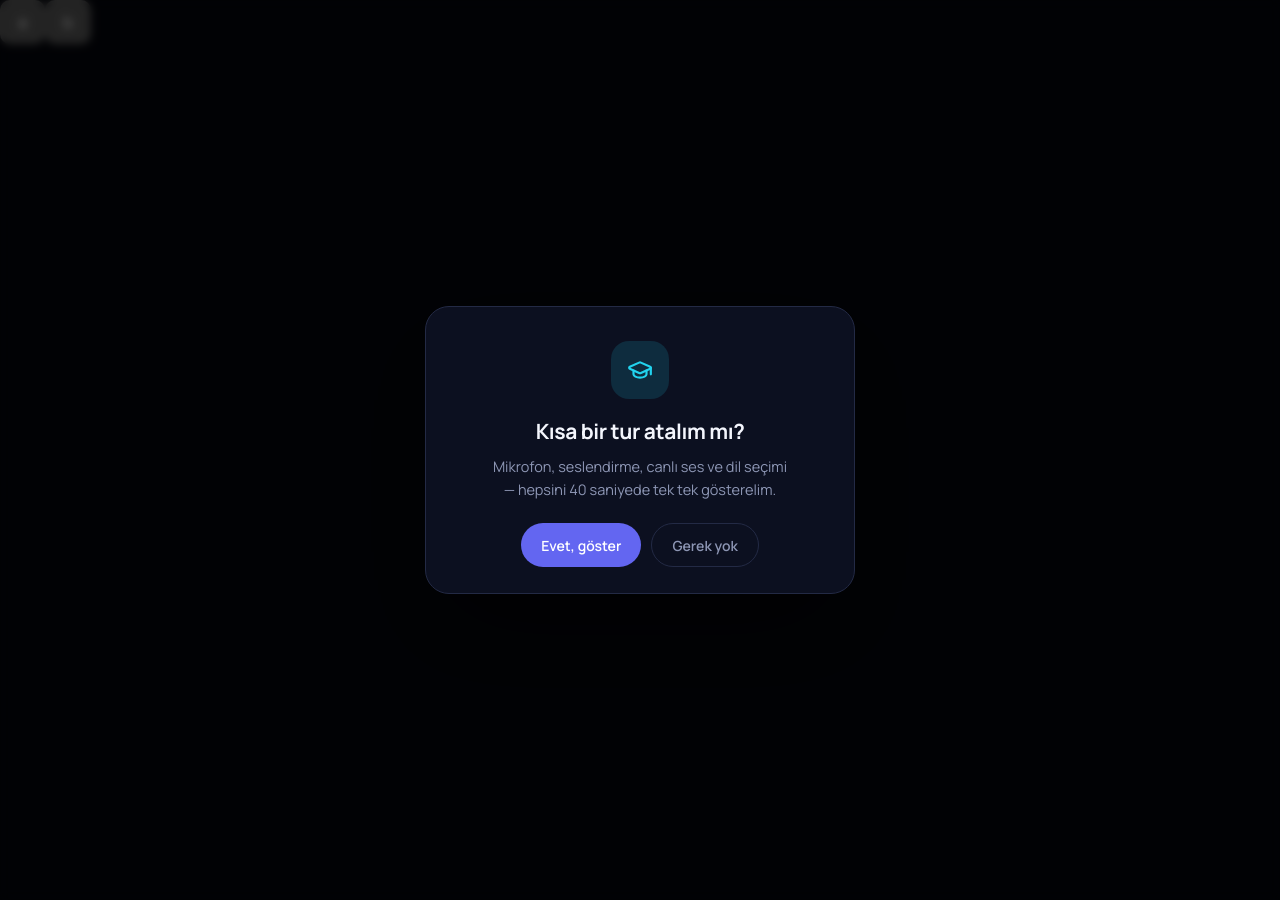
Test case: öğretici tur › evet denince adımları sırayla gezer ve görev tamamlandı ile biter
Click the button "Evet, göster" at (581,546), box [521,524,641,568]
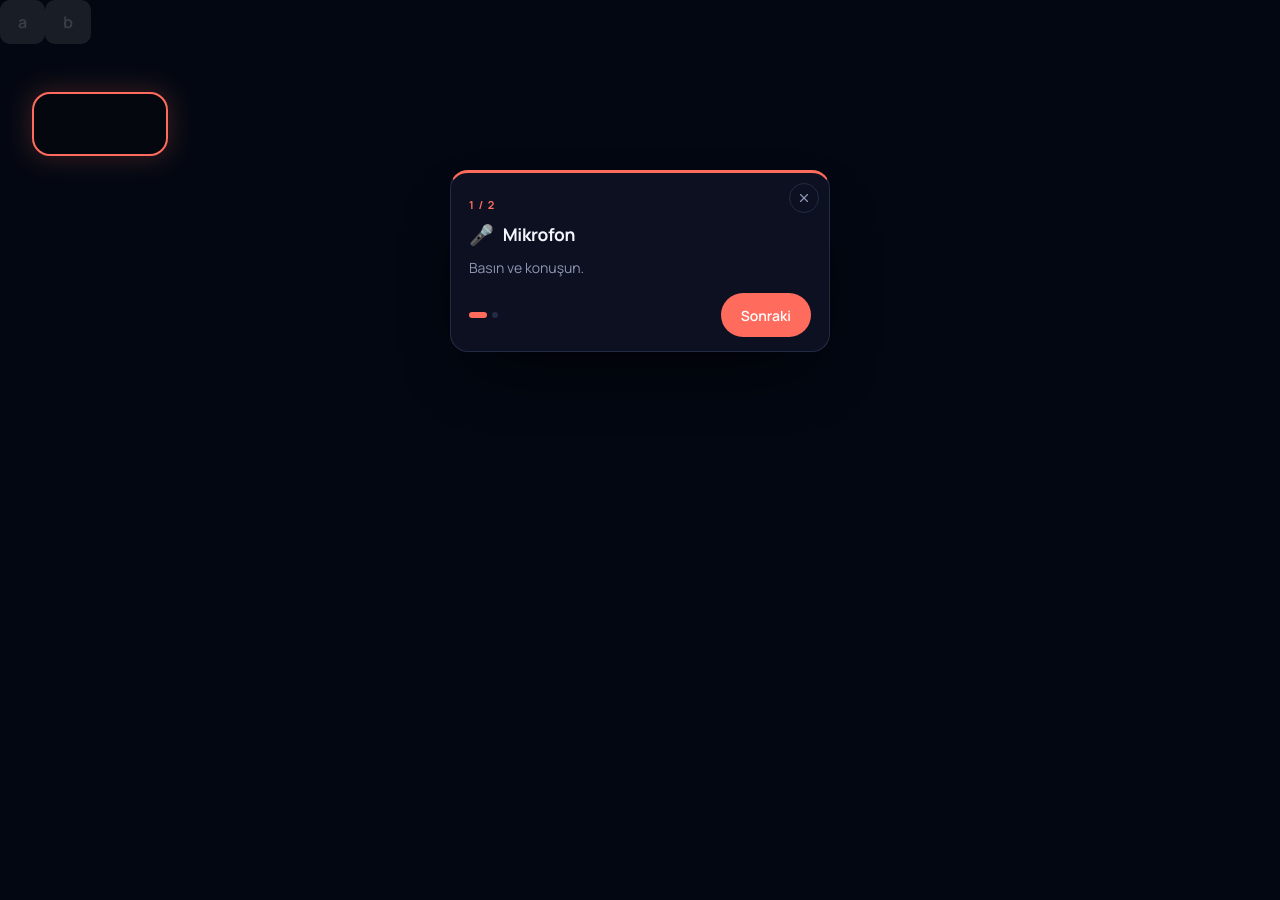
Result: the text "1 / 2" is shown at [469,196,496,213]
Result: the heading "🎤 Mikrofon" is shown at [469,221,575,248]
Click the button "Sonraki" at (766,315), box [721,293,811,337]
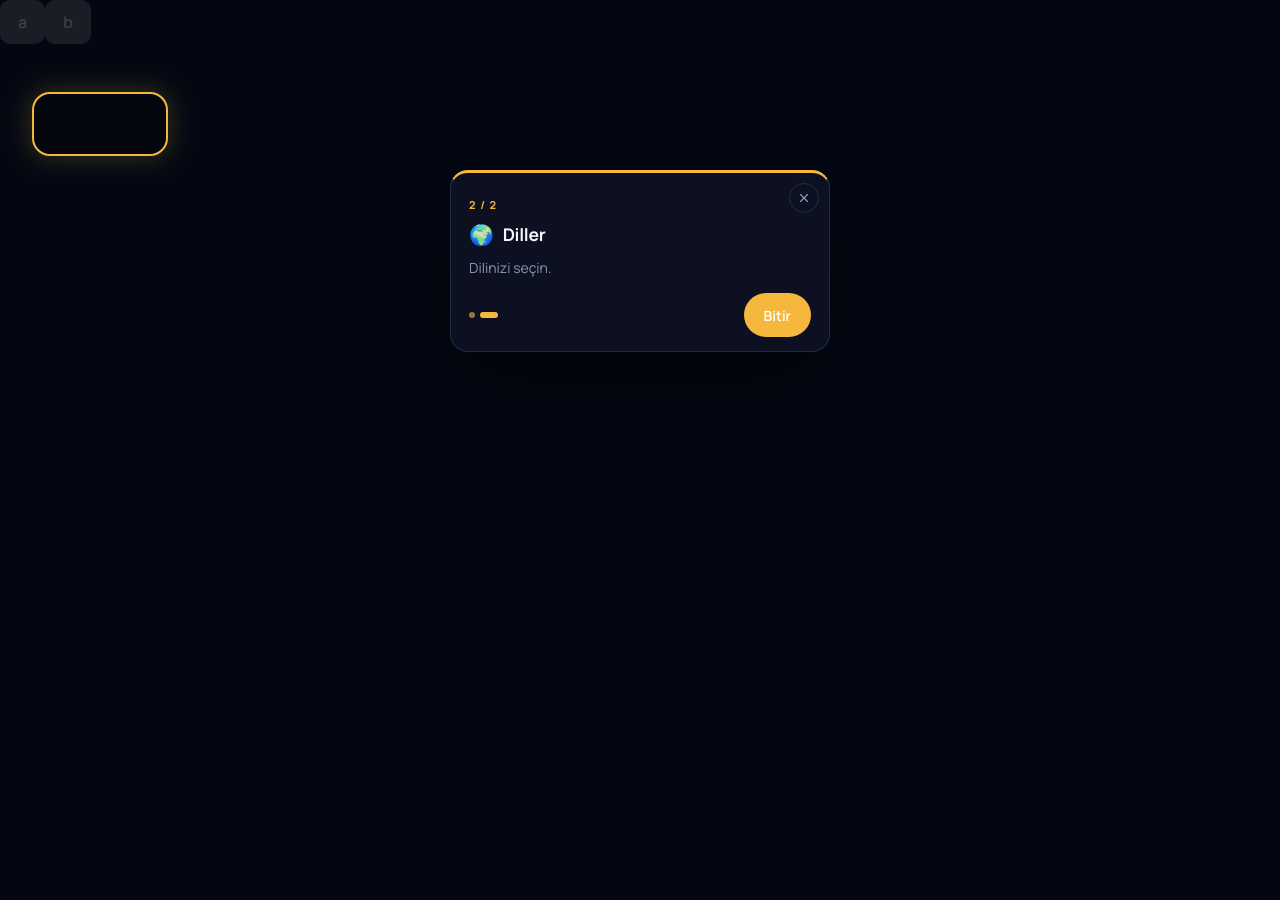
Result: the text "2 / 2" is shown at [469,196,497,213]
Result: the heading "🌍 Diller" is shown at [469,221,545,248]
Click the button "Bitir" at (777,315), box [744,293,811,337]
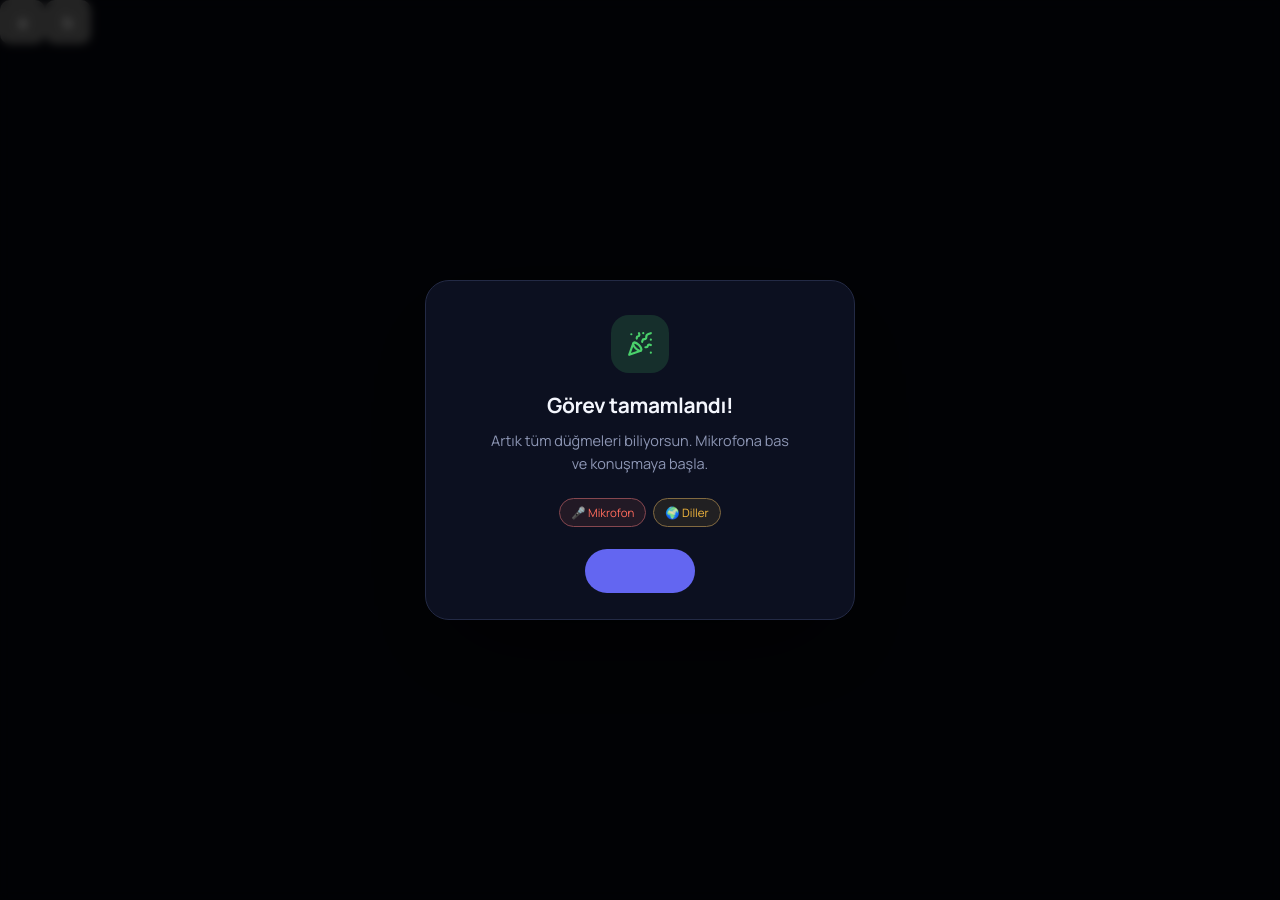
Result: the heading "Görev tamamlandı!" is shown at [547,391,733,419]
